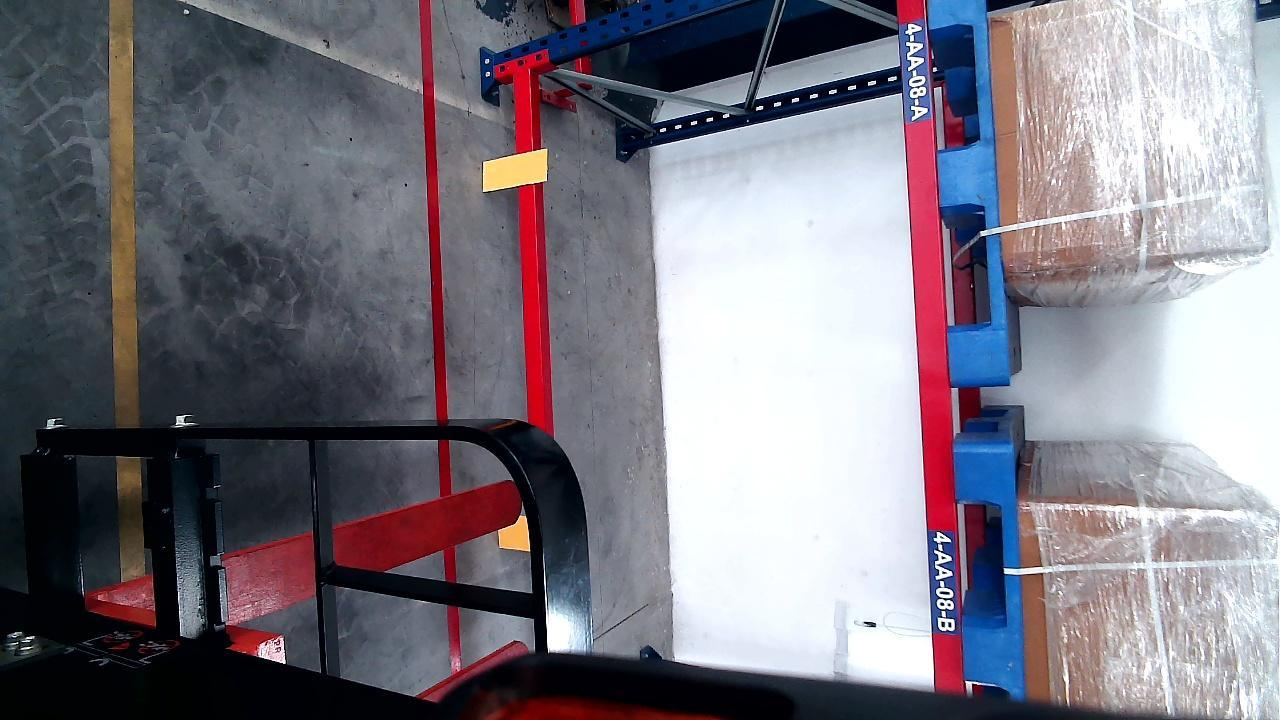red_line: (418, 1, 459, 674)
yellow_line: (110, 0, 141, 586)
